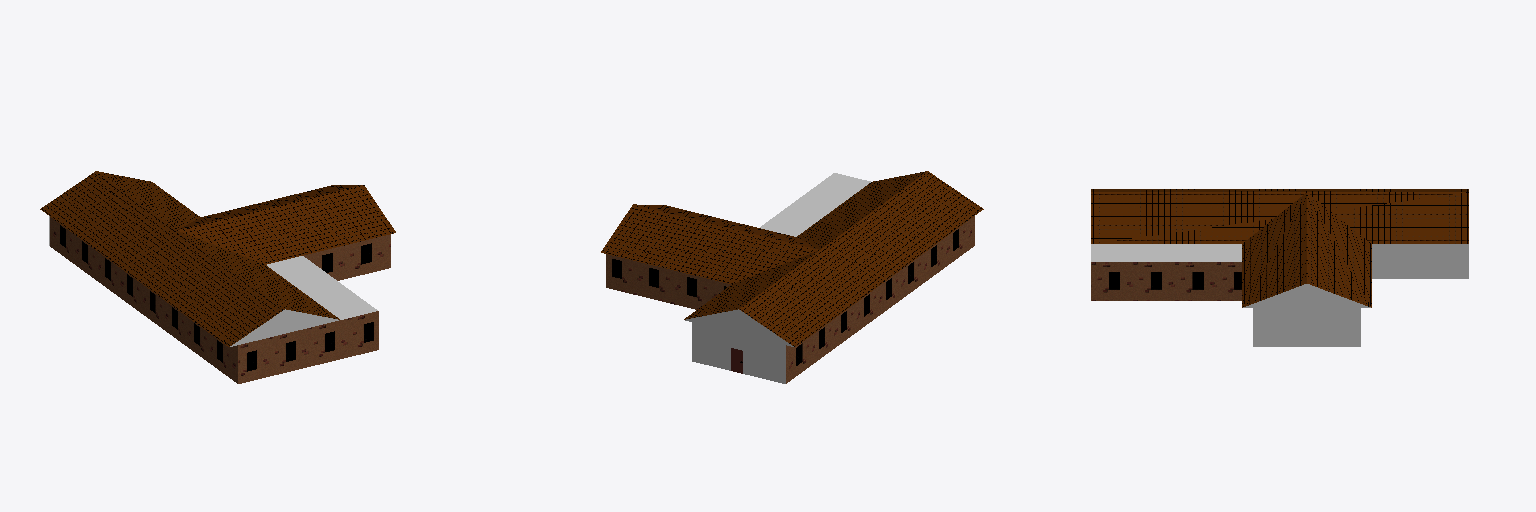
3 renders of one model, left to right at view 1: azimuth 30°, elevation 25°; view 2: azimuth 150°, elevation 25°; view 3: azimuth 270°, elevation 25°, orthographic.
Parts seen in each view (by area): view 1: No_Name; view 2: No_Name; view 3: No_Name.
Part boxes in pixels (bbox=[...]): No_Name: bbox=[40, 171, 395, 383]; No_Name: bbox=[601, 171, 983, 383]; No_Name: bbox=[1091, 189, 1468, 346].
Size of the model in its own units: 26 by 6.5 by 35.
Materials: 5 (3 with a texture image).